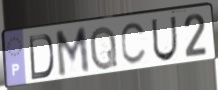2: (182, 12, 209, 60)
C: (119, 20, 148, 67)
D: (28, 32, 56, 81)
M: (53, 25, 91, 80)
Q: (89, 24, 120, 72)
U: (150, 15, 179, 63)
